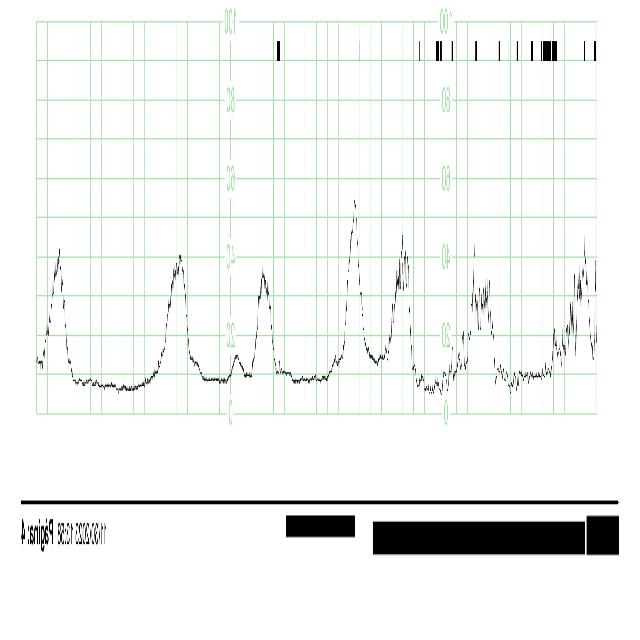contraction: (464, 243, 496, 380), (391, 249, 421, 386), (343, 189, 368, 351), (41, 251, 72, 378), (161, 260, 192, 366), (572, 239, 594, 361), (255, 274, 277, 376)
